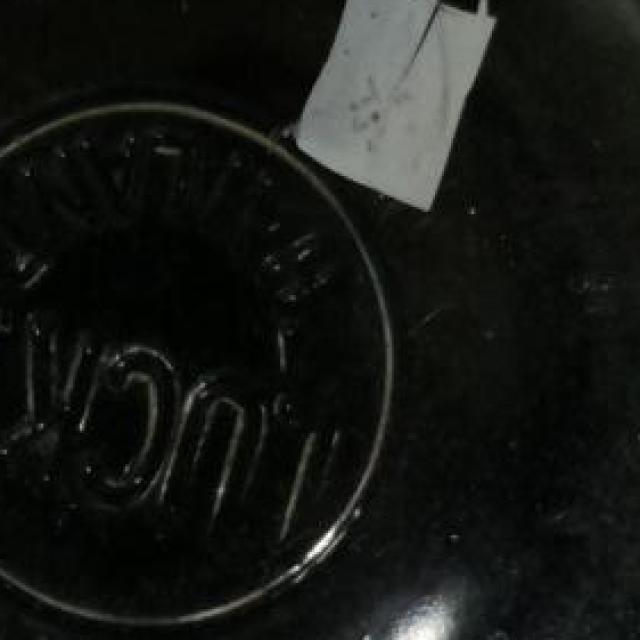Microplastic: (282, 0, 501, 217)
